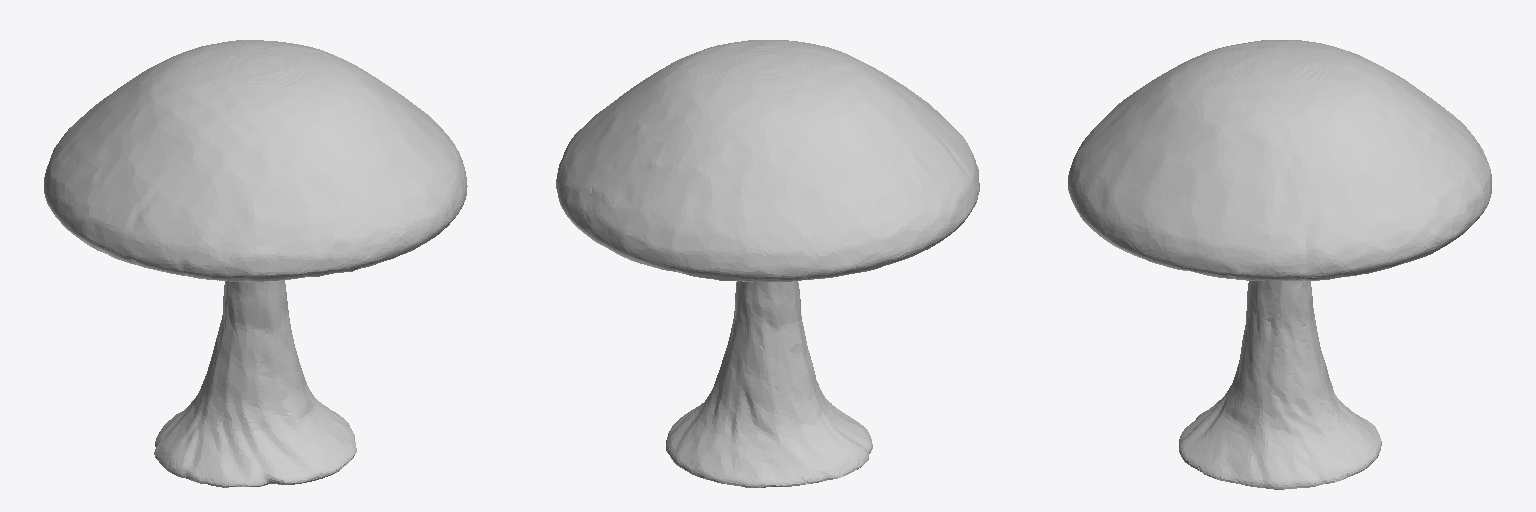
Rendered from Seta.obj.
The picture shows the model from 3 angles: view 1: azimuth 30°, elevation 25°; view 2: azimuth 150°, elevation 25°; view 3: azimuth 270°, elevation 25°; orthographic projection.
Parts seen in each view (by area): view 1: Mesh_0; view 2: Mesh_0; view 3: Mesh_0.
Part boxes in pixels (x1,y1,x2,y2): Mesh_0: (44,40,467,487); Mesh_0: (556,40,979,487); Mesh_0: (1068,40,1491,489).
Size of the model in its own units: 1.99 by 1.98 by 2.